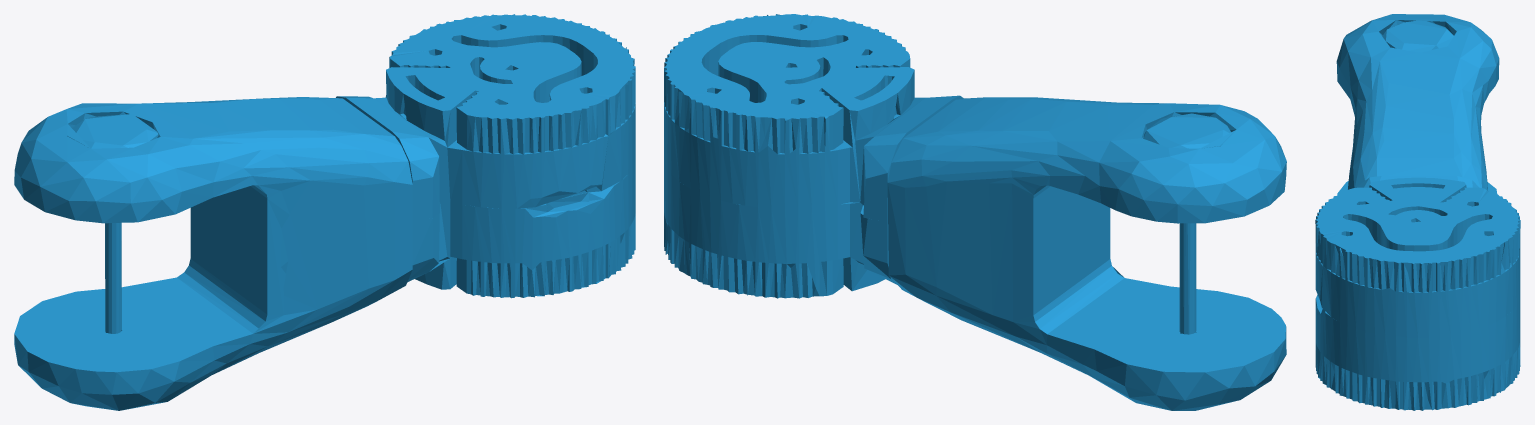
Rendered from BCN3DMoveoLink2.dae.
3 views of the same model, side by side, from view 1: azimuth 30°, elevation 25°; view 2: azimuth 150°, elevation 25°; view 3: azimuth 270°, elevation 25° (orthographic). The views are drawn at different scales.
Visible parts, largest first — view 1: BCN3DLink2; view 2: BCN3DLink2; view 3: BCN3DLink2.
Boxes of the visible parts, <box> form: BCN3DLink2: <box>14,14,635,410</box>; BCN3DLink2: <box>664,14,1286,410</box>; BCN3DLink2: <box>1315,14,1520,410</box>.
Bounding box in the file's own units: 0.329 × 0.1202 × 0.1349.
